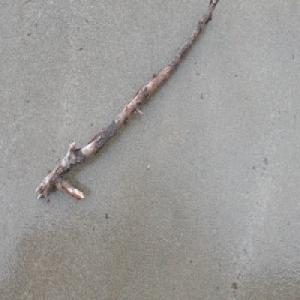Wood: (34, 1, 219, 201)
